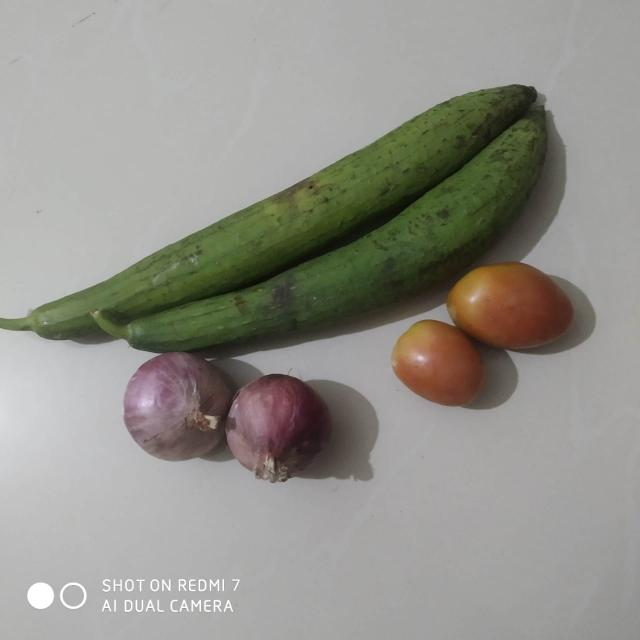Organik: (0, 73, 569, 262), (119, 348, 234, 465), (447, 262, 579, 352), (231, 372, 332, 488), (396, 320, 484, 410)
